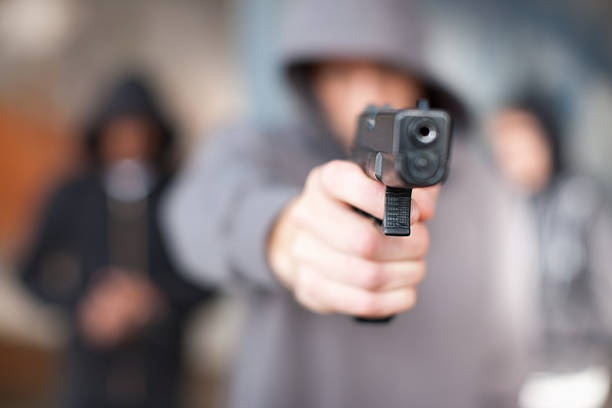gun: (333, 98, 453, 328)
